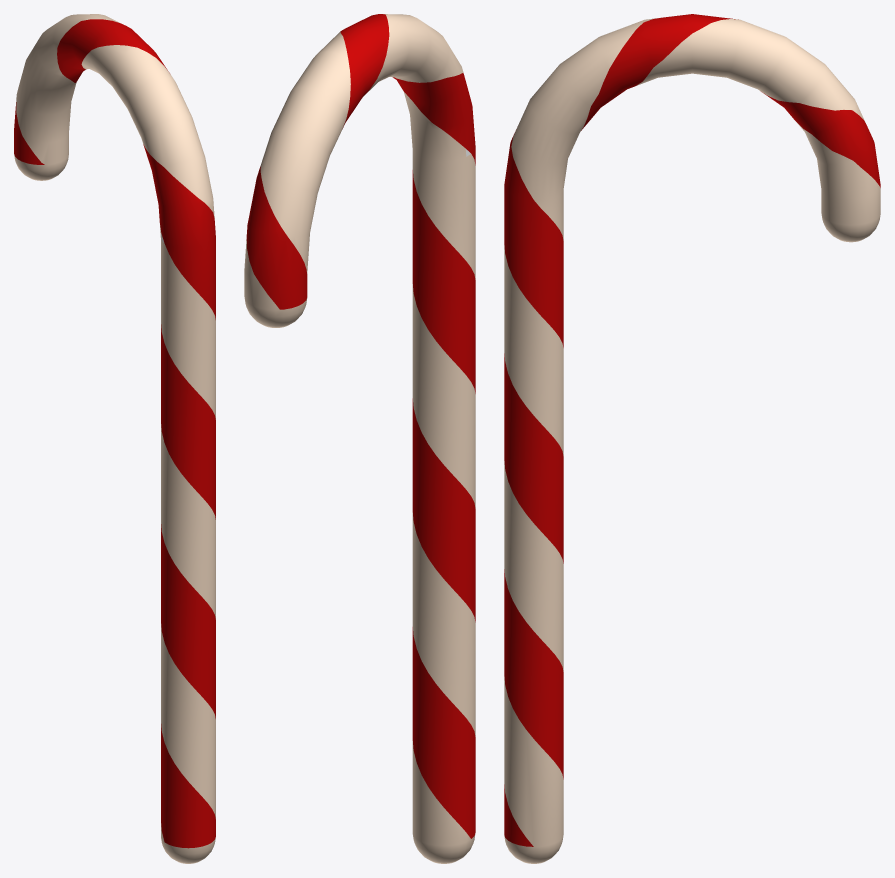
Rendered from Candy Cane.dae.
3 views of the same model, side by side, from view 1: azimuth 30°, elevation 25°; view 2: azimuth 150°, elevation 25°; view 3: azimuth 270°, elevation 25° (orthographic). The views are drawn at different scales.
Parts seen in each view (by area): view 1: SketchUp (×2); view 2: SketchUp (×2); view 3: SketchUp (×2).
Part boxes in pixels (x1,y1,x2,y2): SketchUp (×2): [14, 14, 215, 863]; SketchUp (×2): [244, 14, 475, 863]; SketchUp (×2): [504, 14, 880, 863].
Bounding box in the file's own units: 0.375 × 2.38 × 5.85.
